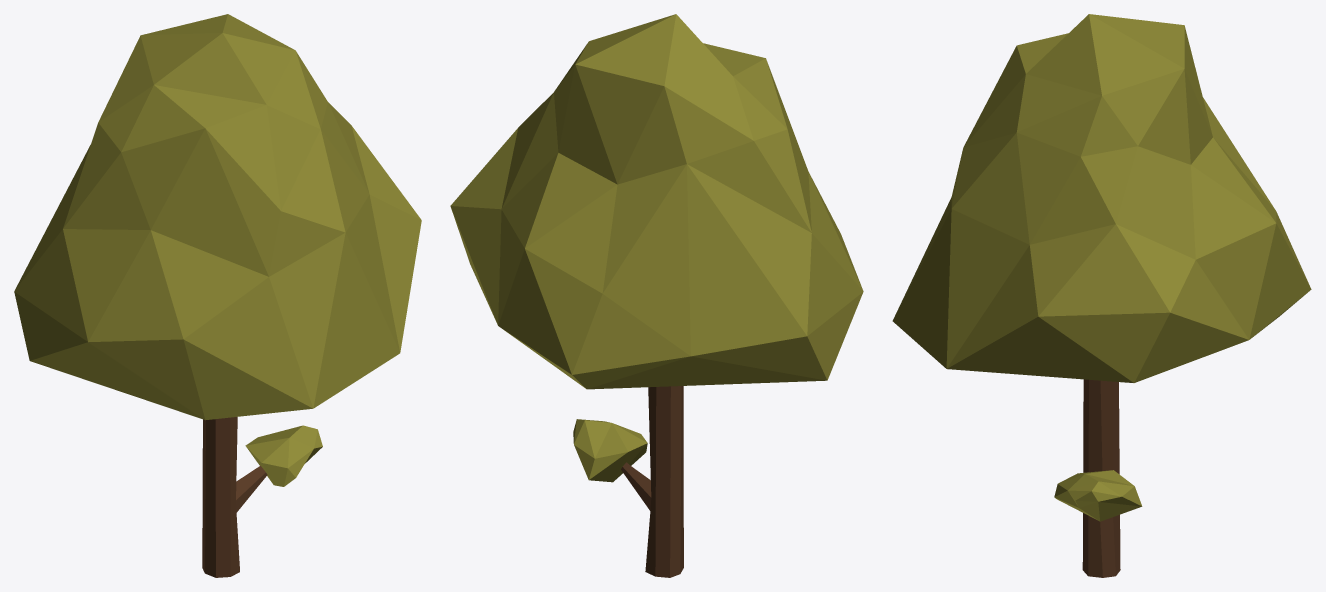
Rendered from Tree_45_Yellow.fbx.
3 renders of one model, left to right at view 1: azimuth 30°, elevation 25°; view 2: azimuth 150°, elevation 25°; view 3: azimuth 270°, elevation 25°, orthographic.
Visible parts, largest first — view 1: Tree_45_Yellow_Part_1, Tree_45_Yellow_Part_3, Tree_45_Yellow_Part_2; view 2: Tree_45_Yellow_Part_1, Tree_45_Yellow_Part_3, Tree_45_Yellow_Part_2; view 3: Tree_45_Yellow_Part_1, Tree_45_Yellow_Part_3, Tree_45_Yellow_Part_2.
Part boxes in pixels (x1,y1,x2,y2): Tree_45_Yellow_Part_1: (14,14,421,420); Tree_45_Yellow_Part_3: (202,417,267,577); Tree_45_Yellow_Part_2: (245,425,322,486); Tree_45_Yellow_Part_1: (450,14,863,389); Tree_45_Yellow_Part_3: (621,386,683,577); Tree_45_Yellow_Part_2: (573,419,647,482); Tree_45_Yellow_Part_1: (892,14,1311,382); Tree_45_Yellow_Part_3: (1082,379,1120,577); Tree_45_Yellow_Part_2: (1054,470,1142,521).
Size of the model in its own units: 549 by 807 by 554.
